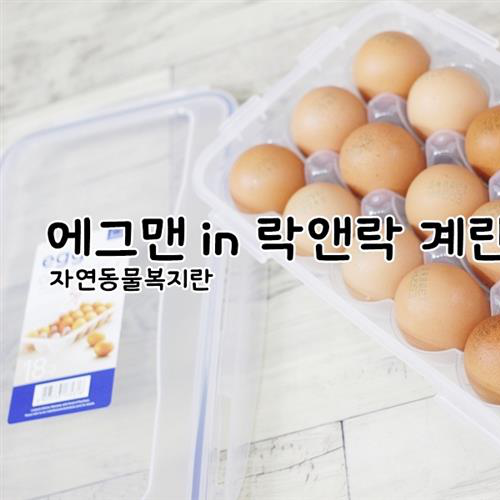egg: (229, 30, 500, 400)
